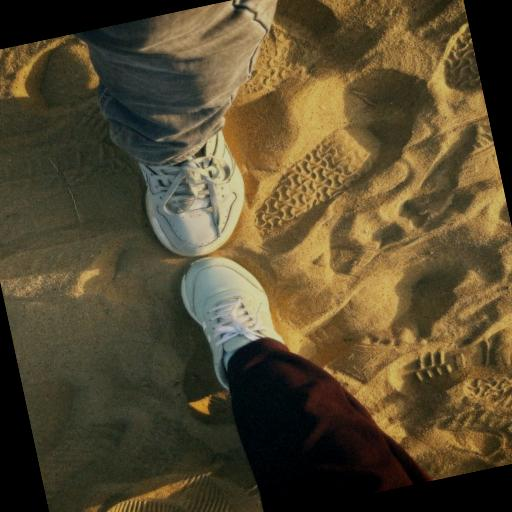shoe: (182, 257, 283, 388), (141, 132, 244, 256)
